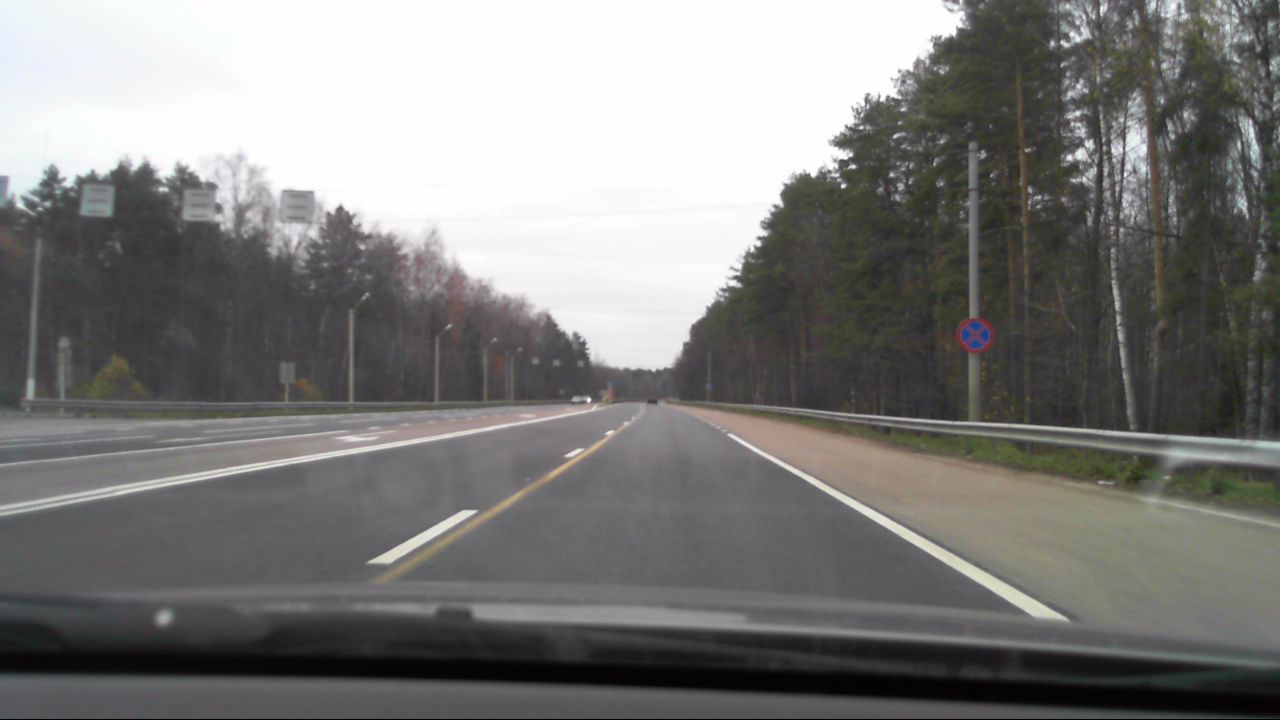No Parking: (955, 316, 993, 353)
